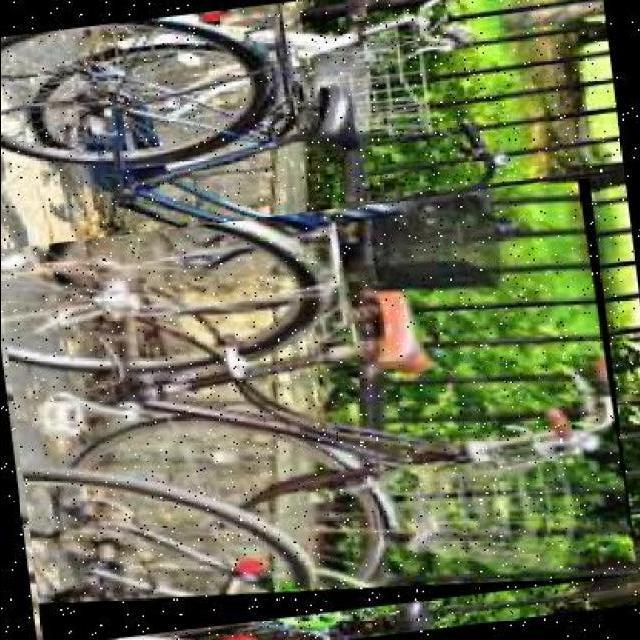bicycle: (2, 177, 638, 640)
